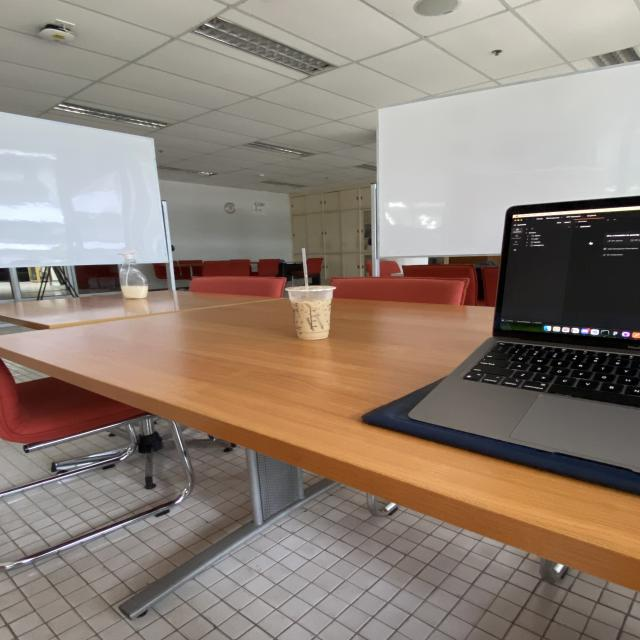cup: (280, 277, 341, 339)
